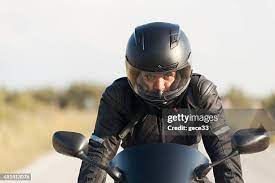helmets: (86, 16, 211, 105)
